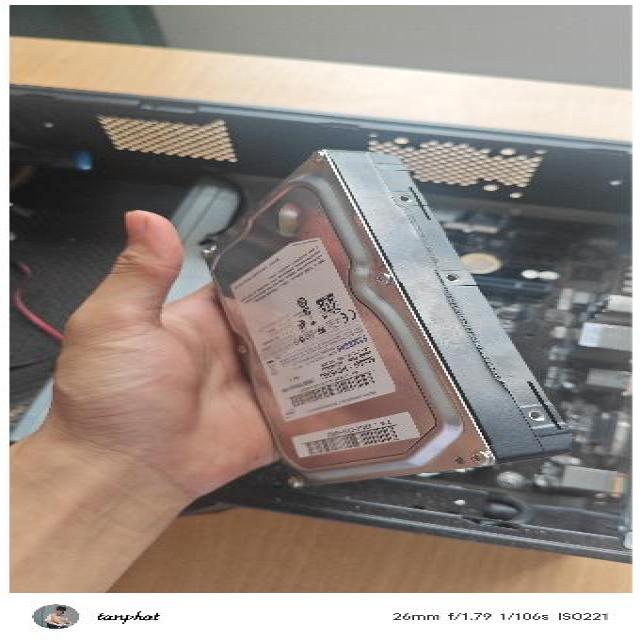DISK: (185, 145, 581, 488)
